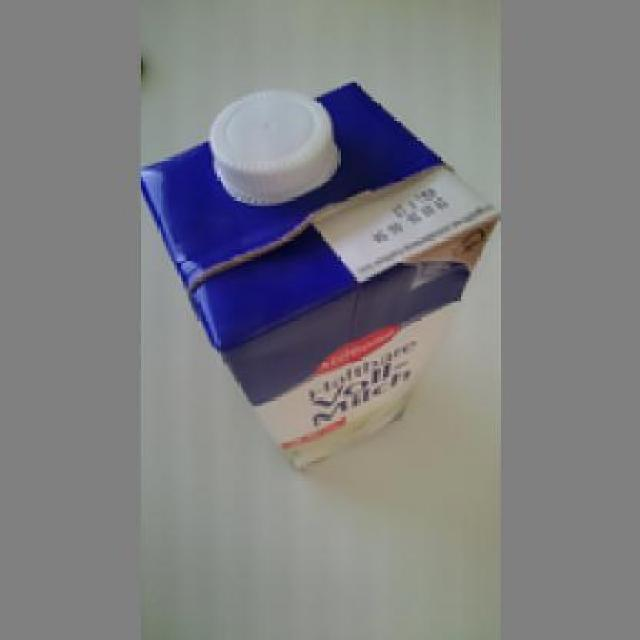Milk: (134, 77, 500, 492)
